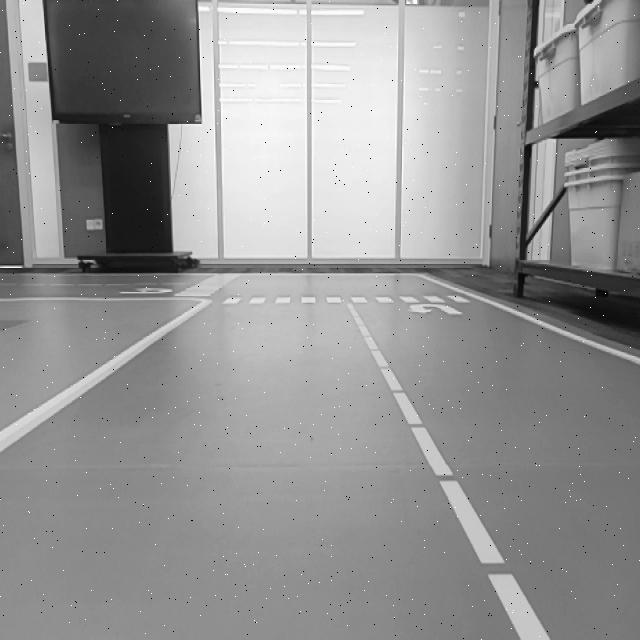left_lane: (347, 303, 550, 640)
right_lane: (1, 303, 209, 453), (425, 275, 640, 364)
